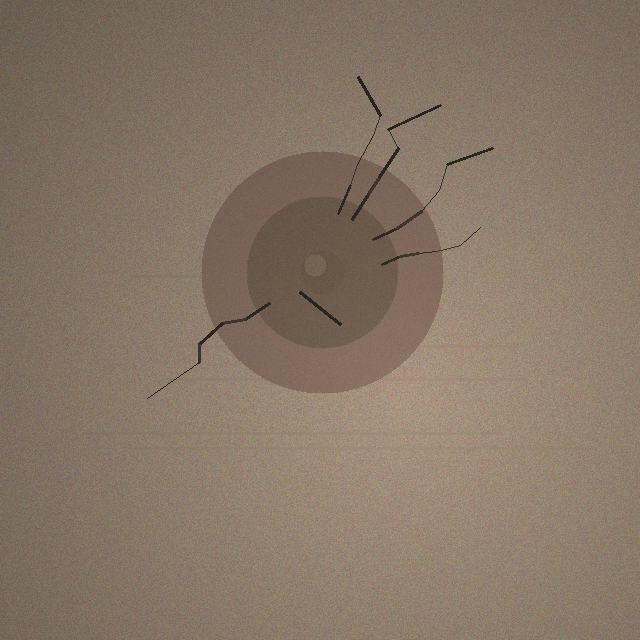crack: (201, 151, 443, 393)
